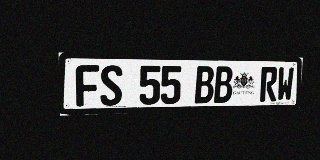5: (140, 65, 161, 105), (161, 66, 181, 104)
B: (195, 66, 214, 103), (214, 66, 233, 103)
F: (76, 65, 99, 107)
R: (260, 67, 278, 102)
S: (100, 65, 122, 106)
W: (277, 67, 294, 101)
